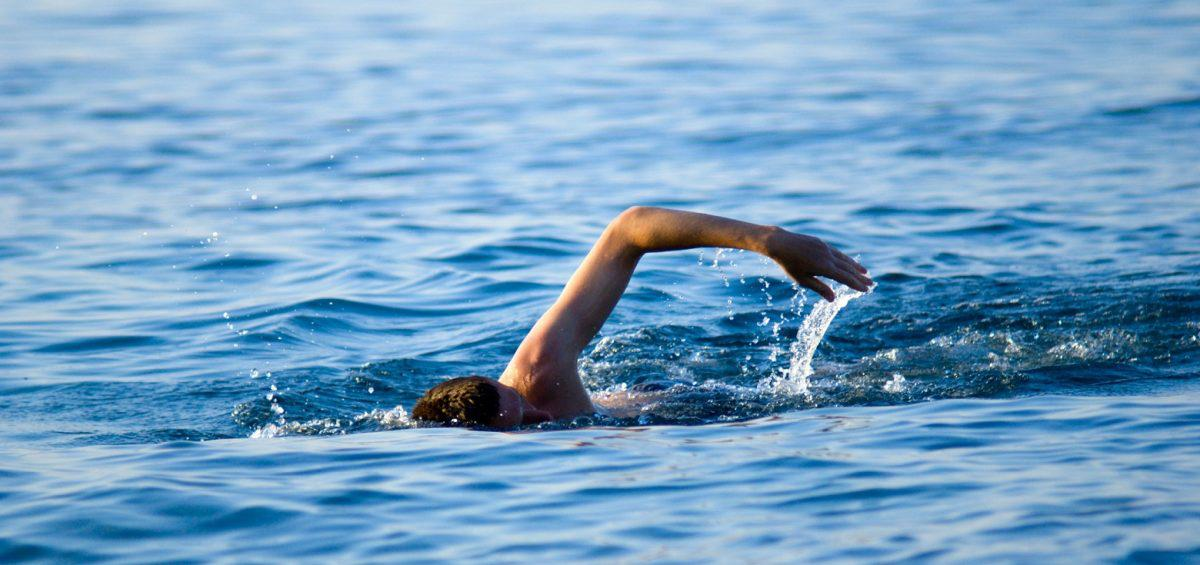human: (402, 205, 871, 430)
